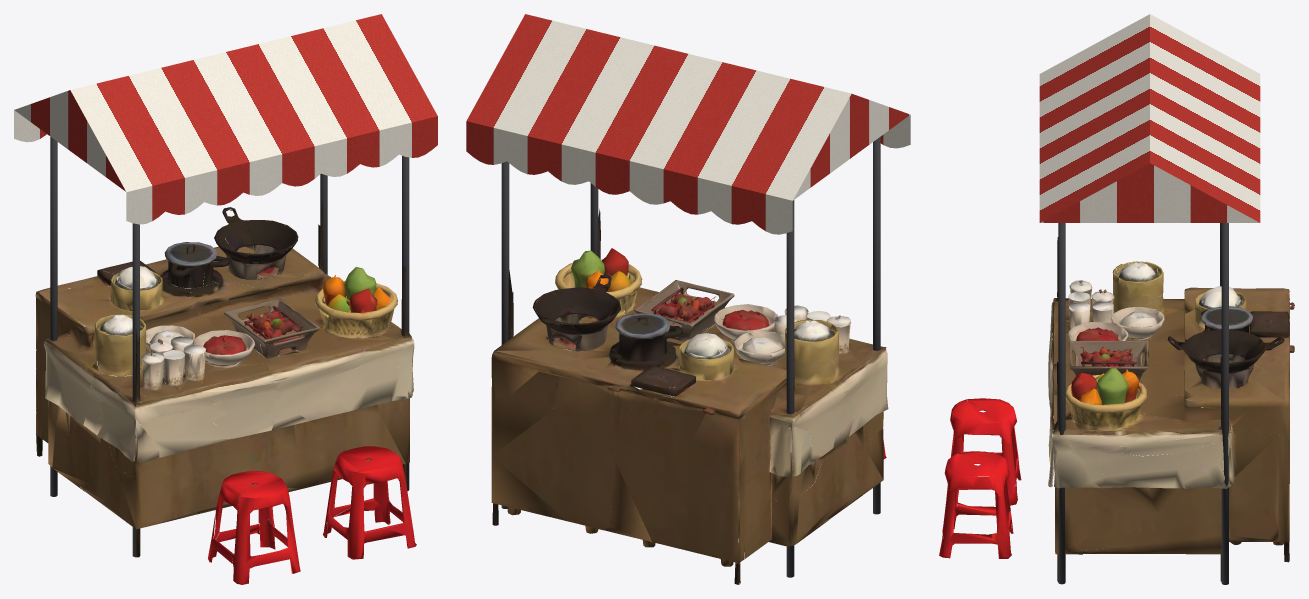
File: stall-food.glb
3 views of the same model, side by side, from view 1: azimuth 30°, elevation 25°; view 2: azimuth 150°, elevation 25°; view 3: azimuth 270°, elevation 25° (orthographic). The views are drawn at different scales.
Visible parts, largest first — view 1: AR2_Stall_Food; view 2: AR2_Stall_Food; view 3: AR2_Stall_Food.
Boxes of the visible parts, x1,y1,x2,y2 form: AR2_Stall_Food: (14, 14, 437, 584); AR2_Stall_Food: (466, 14, 910, 584); AR2_Stall_Food: (939, 14, 1294, 584).
Size of the model in its own units: 1.92 by 2.58 by 1.94.
Materials: 3 (2 with a texture image).
